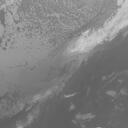cyclone: (46, 45, 97, 92)
